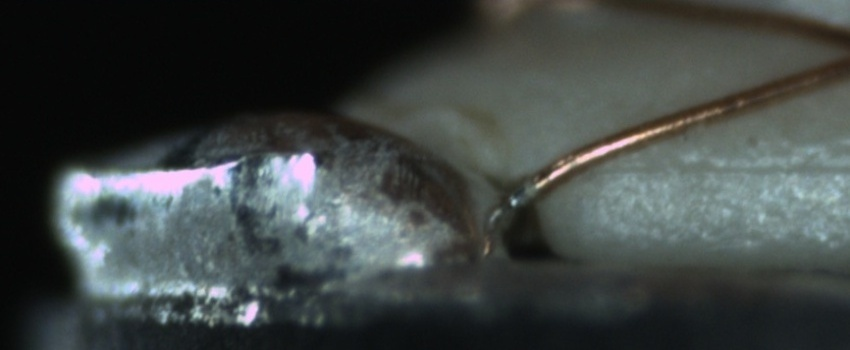DL: (612, 133, 848, 199)
